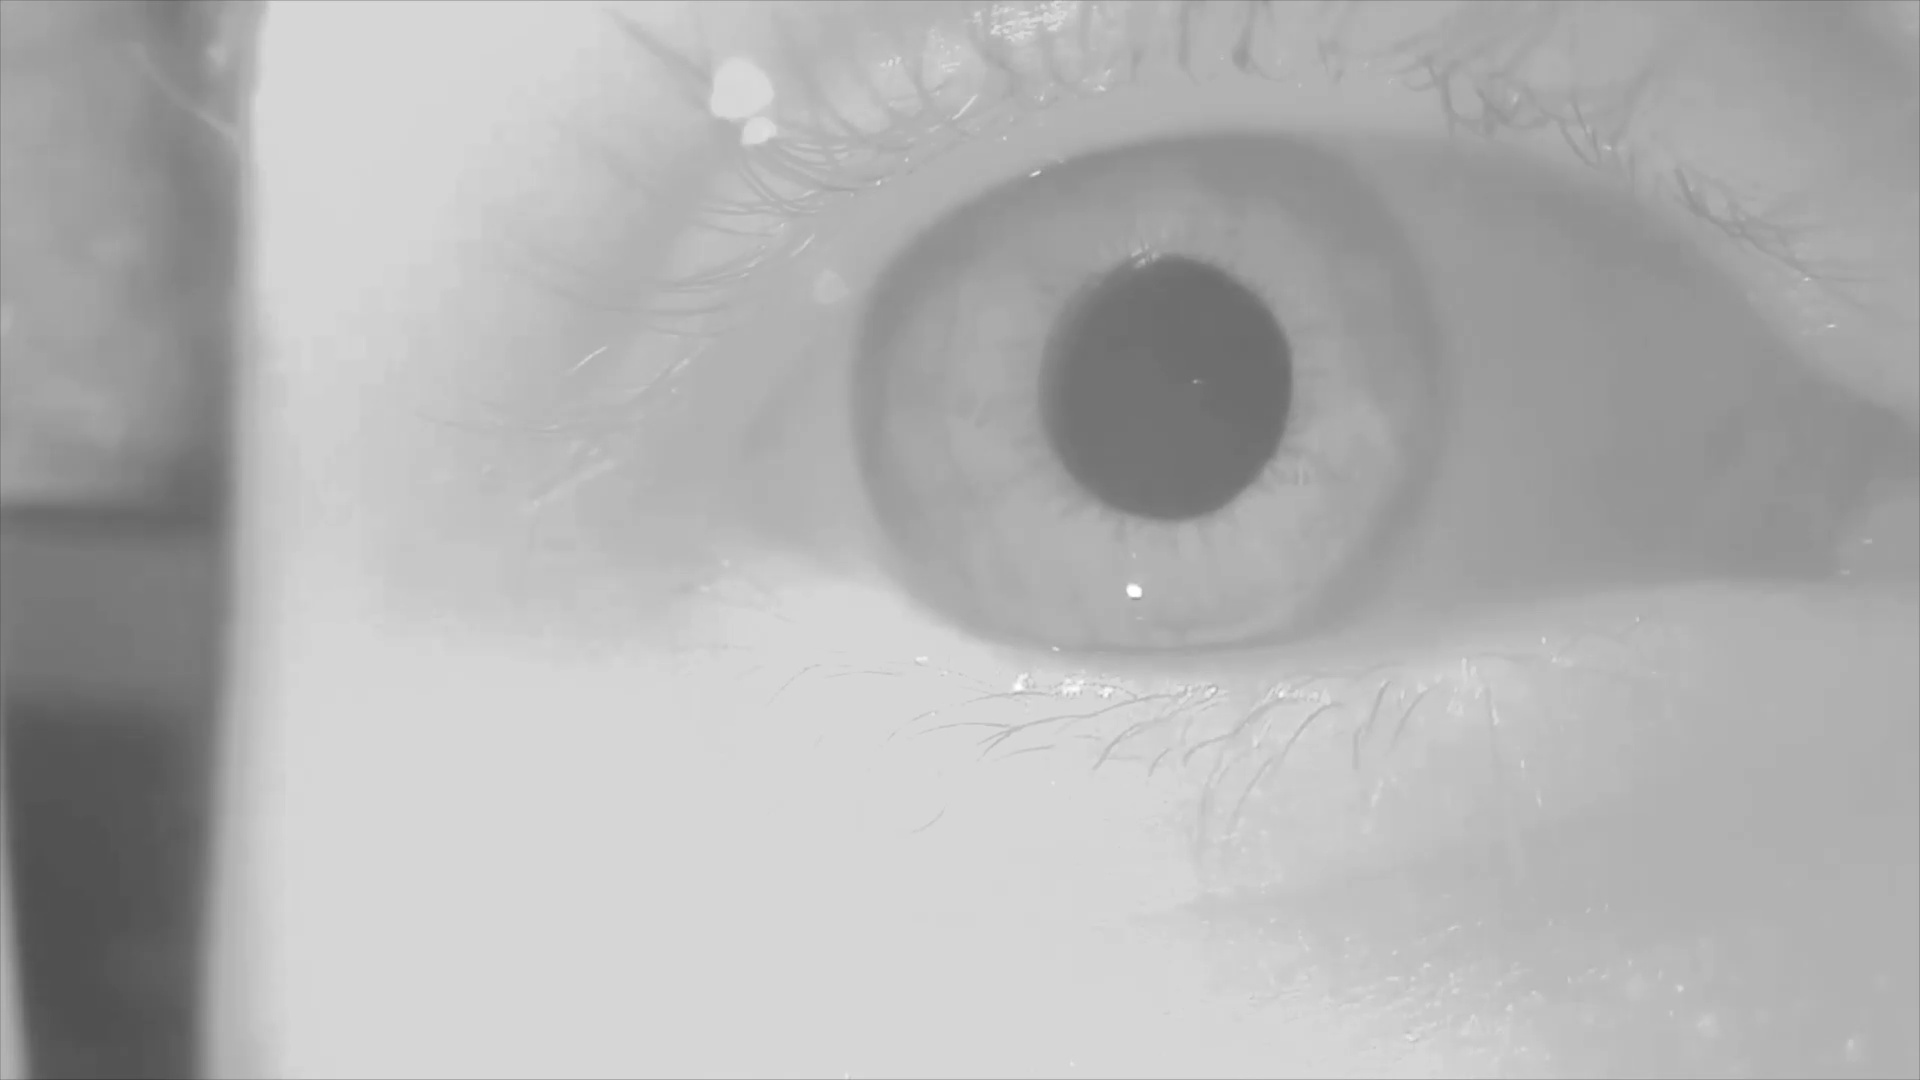pupil: (1040, 254, 1291, 523)
